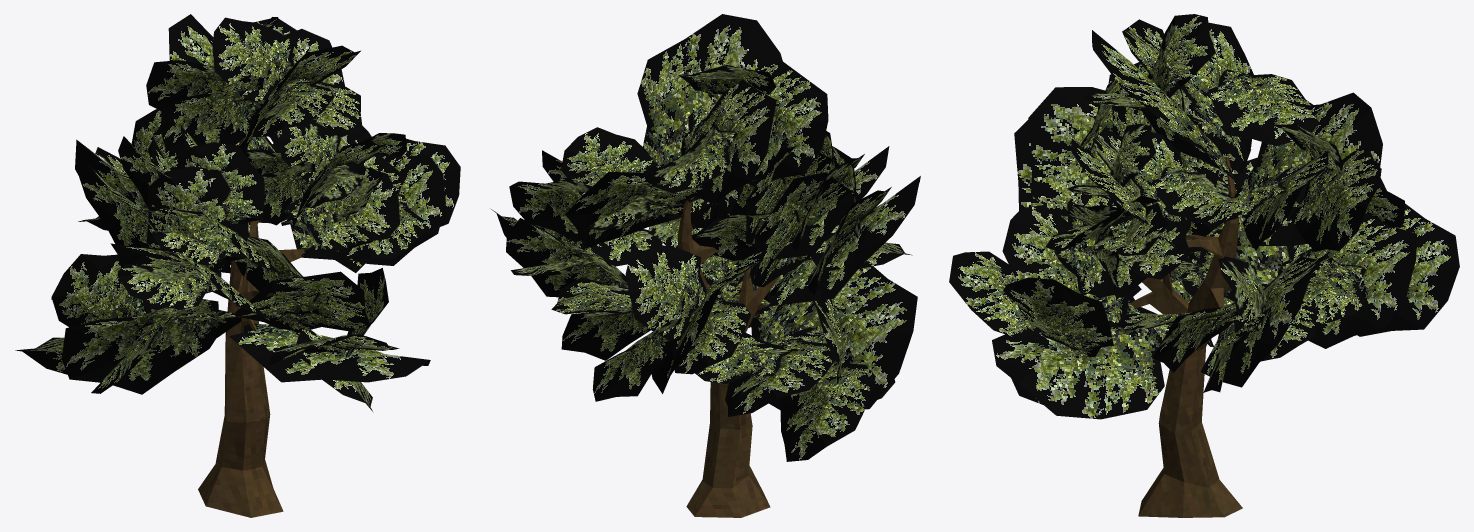
The model's file is leaf-tree-ps1-low-poly.glb.
3 renders of one model, left to right at view 1: azimuth 30°, elevation 25°; view 2: azimuth 150°, elevation 25°; view 3: azimuth 270°, elevation 25°, orthographic. The views are drawn at different scales.
Visible parts, largest first — view 1: Plane.001; view 2: Plane.001; view 3: Plane.001.
Boxes of the visible parts, box(x1,y1,x2,y2) form: Plane.001: box(15, 14, 460, 517); Plane.001: box(491, 14, 920, 517); Plane.001: box(949, 14, 1459, 517).
Size of the model in its own units: 15.52 by 16.83 by 16.
1 material, 1 textured.
